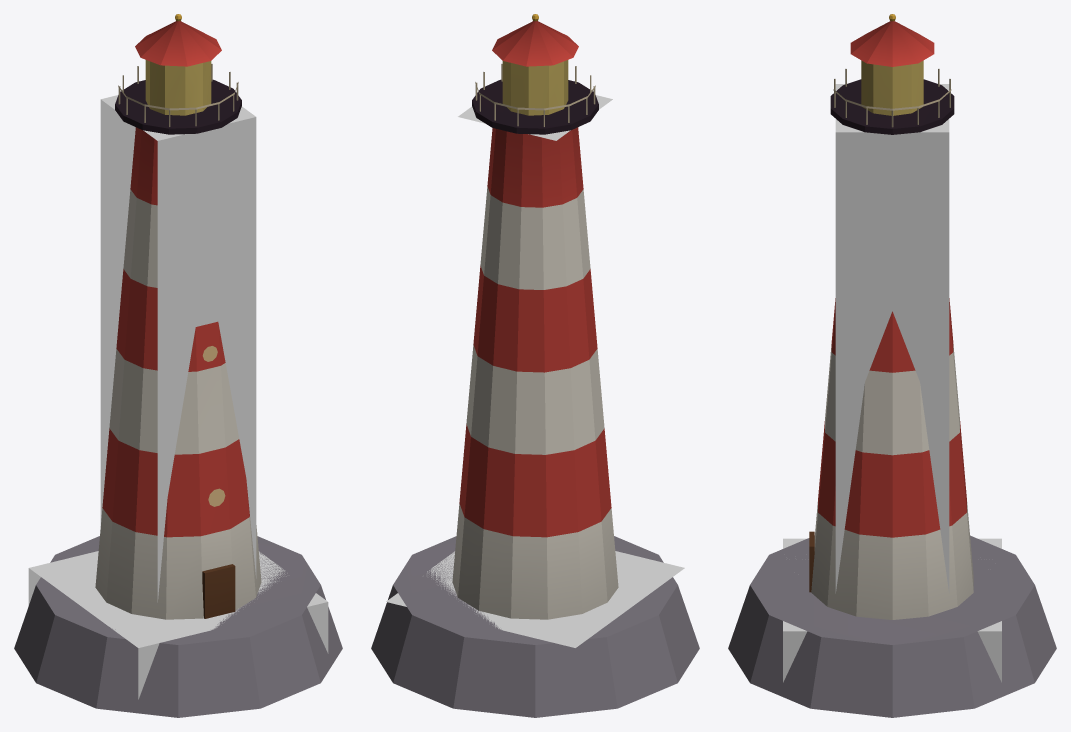
The model's file is lighthouse.glb.
3 views of the same model, side by side, from view 1: azimuth 30°, elevation 25°; view 2: azimuth 150°, elevation 25°; view 3: azimuth 270°, elevation 25° (orthographic).
Visible parts, largest first — view 1: lighthouse, COL_1, COL_0; view 2: lighthouse, COL_0; view 3: lighthouse, COL_1, COL_0.
Part boxes in pixels (box(x1,y1,x2,y2)): lighthouse: box(14, 14, 342, 717); COL_1: box(100, 95, 256, 602); COL_0: box(28, 551, 328, 699); lighthouse: box(371, 14, 699, 717); COL_0: box(386, 551, 684, 647); lighthouse: box(728, 14, 1056, 717); COL_1: box(835, 84, 949, 593); COL_0: box(783, 538, 1001, 682).
Size of the model in its own units: 15 by 31.93 by 15.
